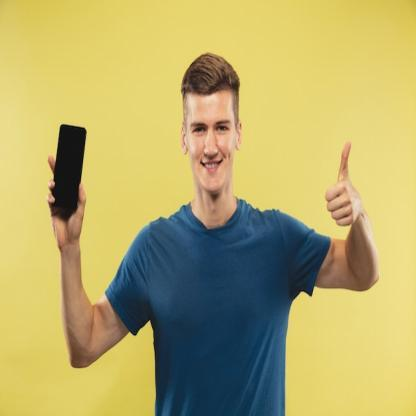thumb_up: (322, 135, 362, 230)
